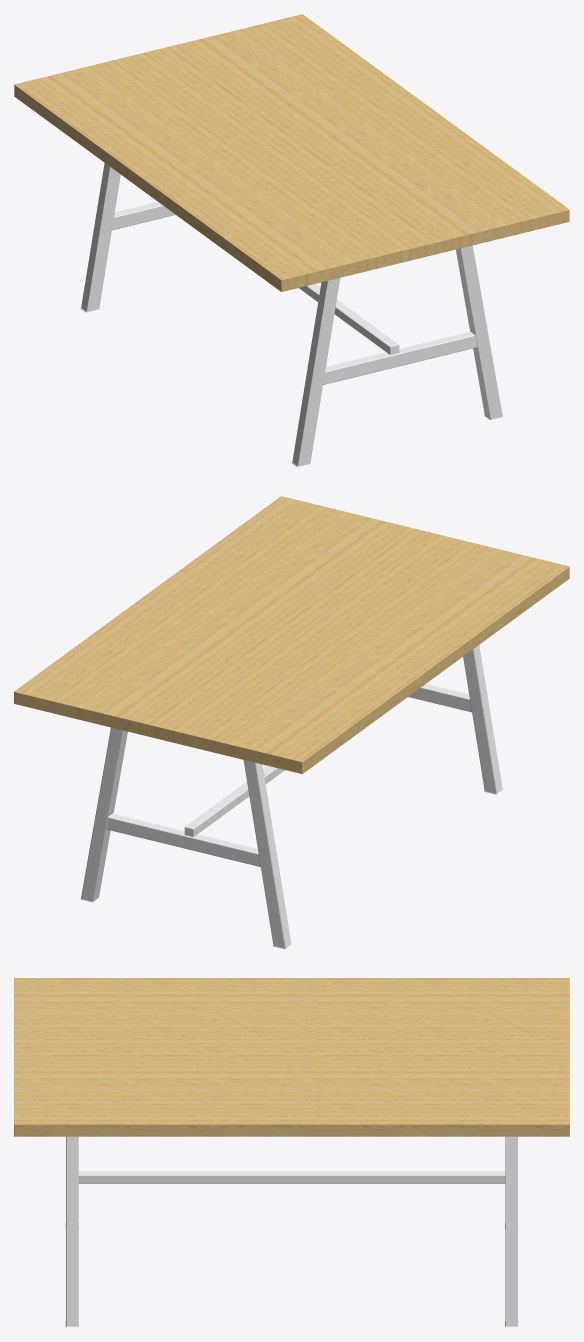
The model's file is table.glb.
3 renders of one model, top to bottom at view 1: azimuth 30°, elevation 25°; view 2: azimuth 150°, elevation 25°; view 3: azimuth 270°, elevation 25°, orthographic. The views are drawn at different scales.
Parts seen in each view (by area): view 1: Plane.000, Plane.001, Plane.006; view 2: Plane.000, Plane.001, Plane.006; view 3: Plane.000, Plane.006, Plane.001.
Boxes of the visible parts, bbox=[...] form: Plane.000: bbox=[14, 14, 569, 291]; Plane.001: bbox=[80, 163, 503, 467]; Plane.006: bbox=[299, 284, 399, 354]; Plane.000: bbox=[14, 496, 569, 773]; Plane.001: bbox=[80, 645, 503, 949]; Plane.006: bbox=[184, 766, 284, 836]; Plane.000: bbox=[14, 978, 569, 1136]; Plane.006: bbox=[78, 1171, 505, 1183]; Plane.001: bbox=[65, 1136, 518, 1327].
Size of the model in its own units: 1 by 0.7144 by 1.6.
Materials: 2 (1 with a texture image).
